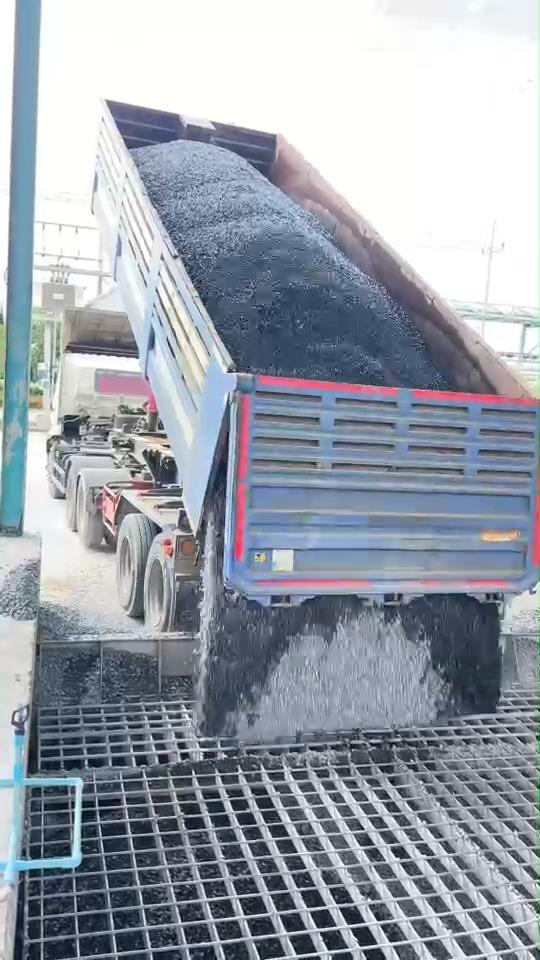gravel: (133, 140, 453, 389), (133, 140, 450, 388), (197, 494, 500, 741), (34, 603, 156, 706), (0, 560, 38, 620)
